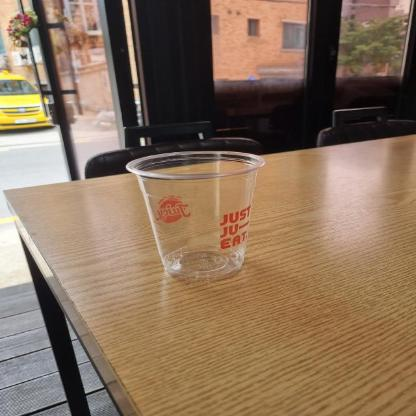Plastic Cup: (119, 144, 272, 284)
